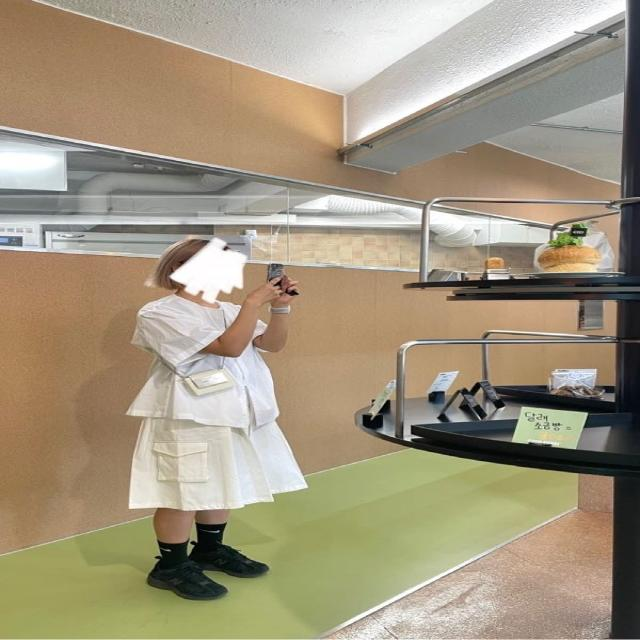shortsleeve: (130, 290, 288, 425)
skirt: (128, 415, 308, 509)
